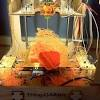fail: (26, 20, 75, 67), (72, 1, 100, 68), (34, 2, 67, 21), (1, 66, 24, 85)
